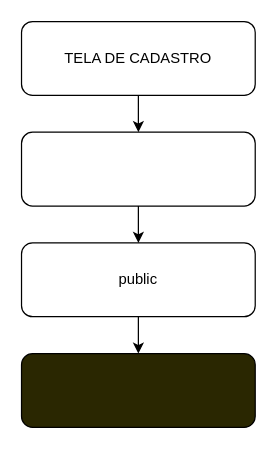
This 277x449 diagram has some shape labels left out. Here are the shapes that lost their labels. From the top down, the centre of each, then its label:
the point at 137,168: api-site
the point at 137,389: cadastro.html
